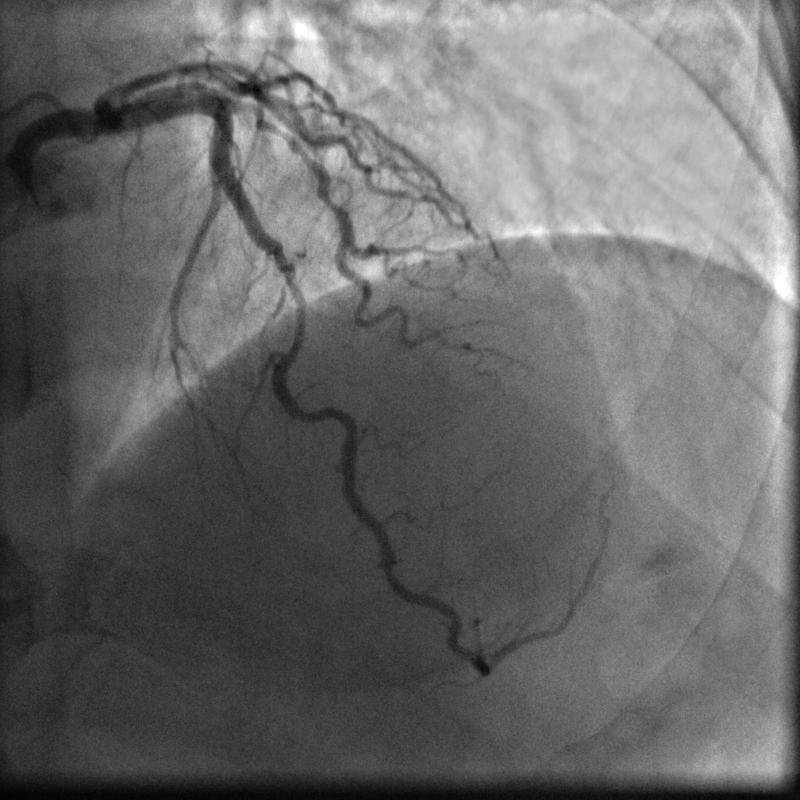Stenosis: (283, 274, 309, 355)
